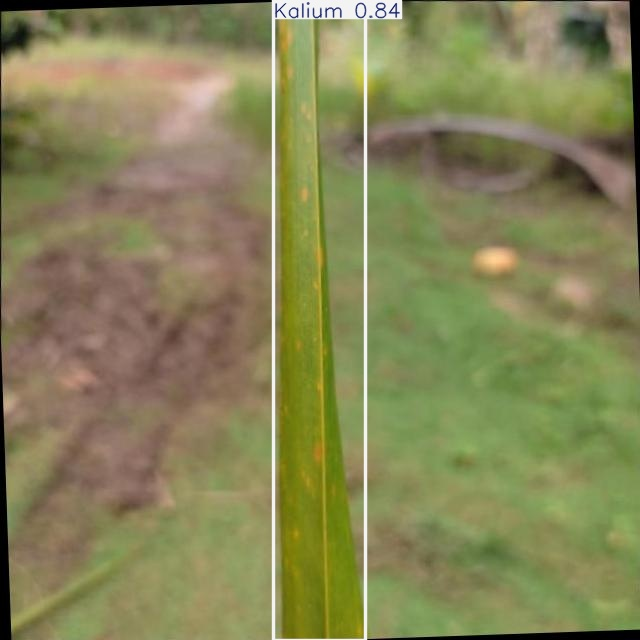Kalium: (274, 0, 365, 640)
